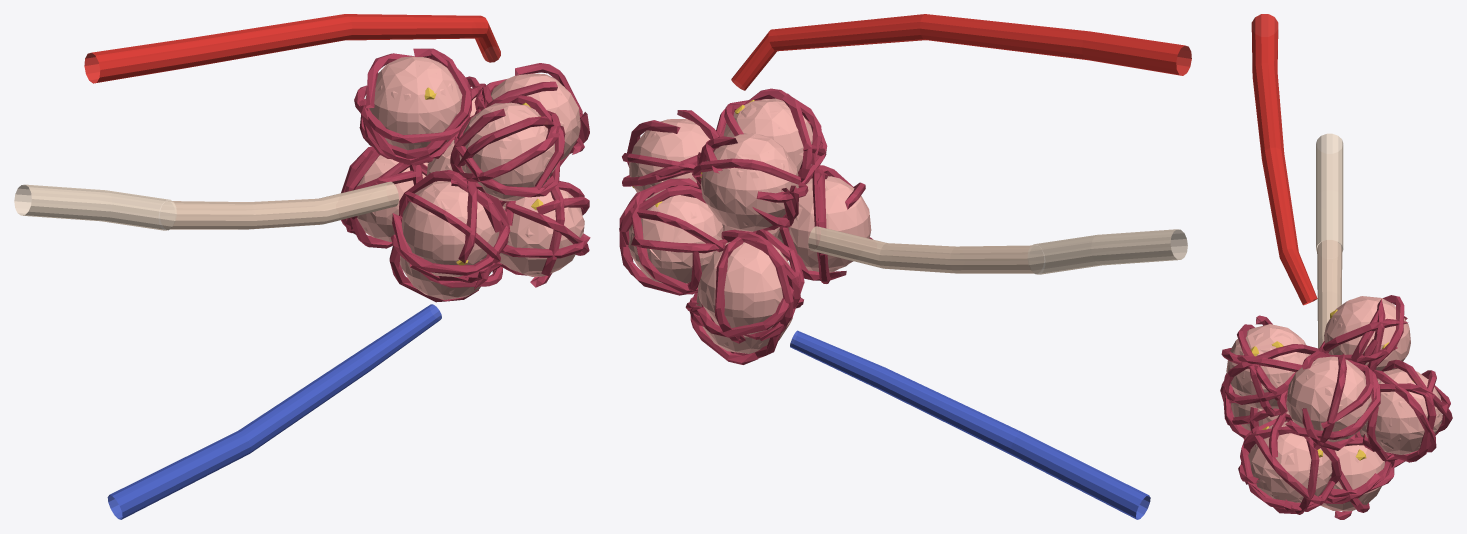
Rendered from anatomyverse-alveoli.glb.
The picture shows the model from 3 angles, left to right: view 1: azimuth 30°, elevation 25°; view 2: azimuth 150°, elevation 25°; view 3: azimuth 270°, elevation 25°; orthographic projection. The views are drawn at different scales.
Visible parts, largest first — view 1: pulmonary_capillaries, alveoli, pulmonary_venule, pulmonary_arteriole, alveolar_duct, respiratory_bronchiole; view 2: alveoli, pulmonary_capillaries, pulmonary_venule, pulmonary_arteriole, alveolar_duct, respiratory_bronchiole; view 3: pulmonary_capillaries, alveoli, pulmonary_venule, respiratory_bronchiole, alveolar_duct, type_ii_pneumocytes.
Boxes of the visible parts, x1,y1,x2,y2 form: pulmonary_capillaries: (341,48,590,302); alveoli: (357,56,584,299); pulmonary_venule: (84,14,500,83); pulmonary_arteriole: (107,304,441,519); alveolar_duct: (169,181,398,229); respiratory_bronchiole: (14,184,176,230); alveoli: (628,98,871,353); pulmonary_capillaries: (619,88,872,364); pulmonary_venule: (731,14,1191,90); pulmonary_arteriole: (790,330,1150,519); alveolar_duct: (808,226,1034,273); respiratory_bronchiole: (1027,229,1187,274); pulmonary_capillaries: (1220,295,1452,519); alveoli: (1226,296,1442,511); pulmonary_venule: (1251,14,1317,305); respiratory_bronchiole: (1316,133,1343,251); alveolar_duct: (1317,240,1342,348); type_ii_pneumocytes: (1251,309,1413,460).
Size of the model in its own units: 0.3507 by 0.2855 by 0.1438.
